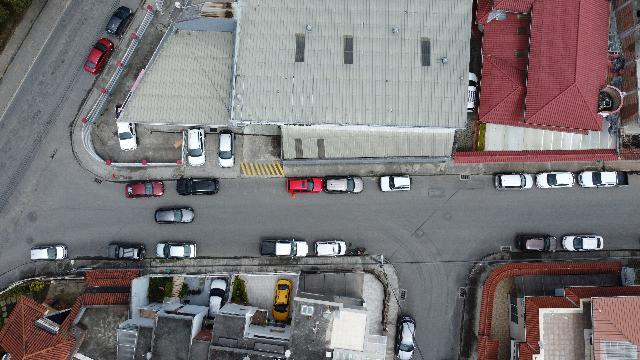Vehiculo: (258, 238, 310, 260), (84, 38, 114, 74), (578, 170, 628, 188), (396, 316, 416, 360), (272, 279, 292, 321), (106, 6, 132, 36), (156, 242, 197, 260), (187, 128, 206, 166), (517, 234, 557, 252), (323, 176, 363, 194), (176, 178, 218, 195), (126, 180, 164, 198), (494, 173, 534, 190), (562, 235, 604, 251), (154, 207, 193, 224), (218, 130, 235, 168), (107, 243, 145, 260), (116, 121, 138, 150), (536, 172, 574, 188), (31, 244, 68, 260), (287, 177, 323, 193), (380, 175, 412, 191), (314, 240, 346, 256), (467, 72, 477, 112)
